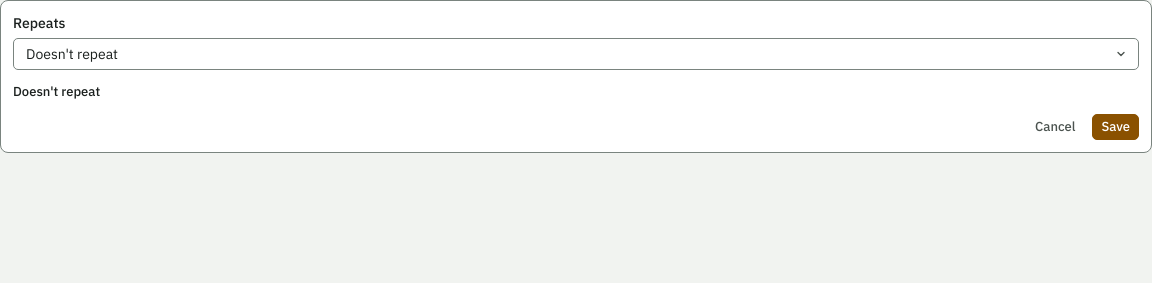
recurrence editor › builds a weekly rule on chosen days
Later steps or results of the test are not shown.
Select "Weekly" in the dropdown labelled "Repeats": [576, 54] box [13,38,1139,70]
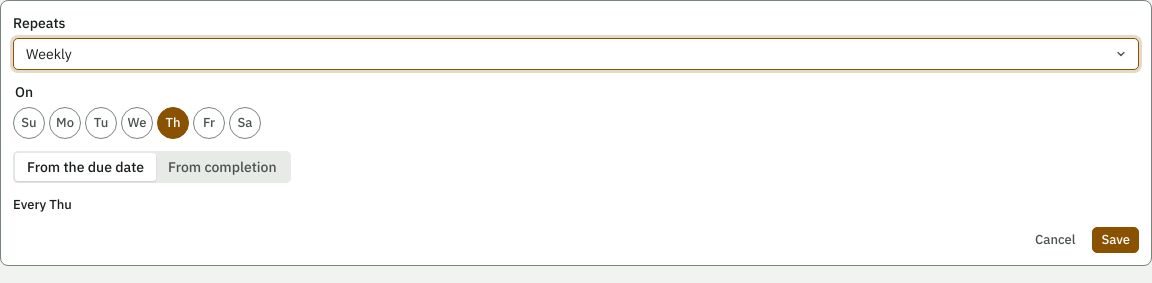
Click the button with aria-label "Monday": [65, 123] box [49,107,81,139]
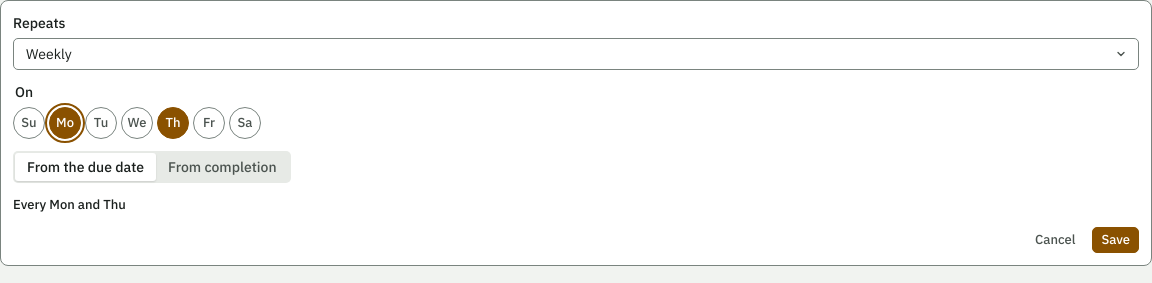
Expected: the text with test id "recur-summary" reads "Every Mon and Thu", [13,196,126,213]
